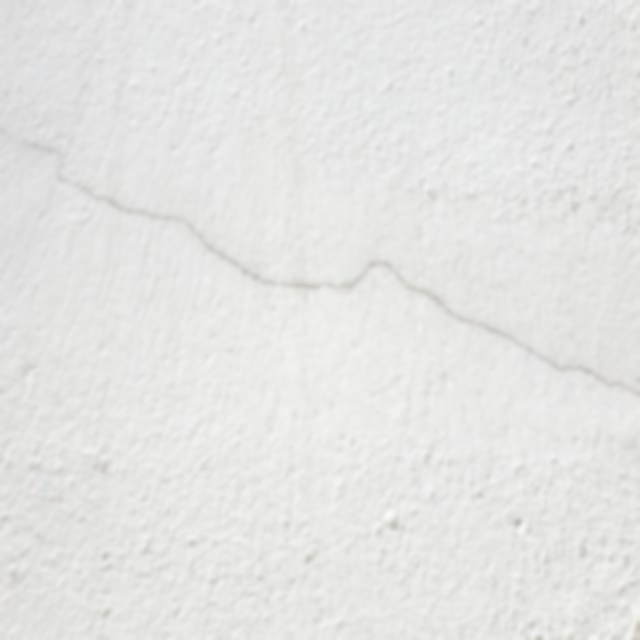SurfaceCrack: (1, 120, 639, 429)
